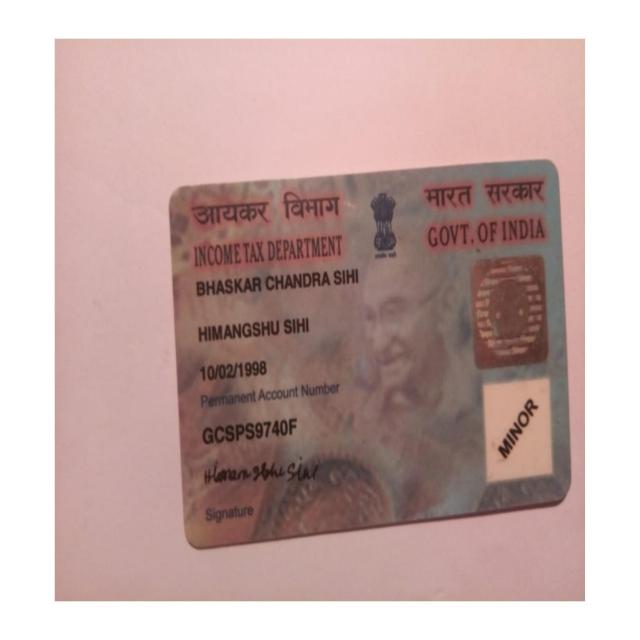pan_card: (172, 159, 565, 544)
